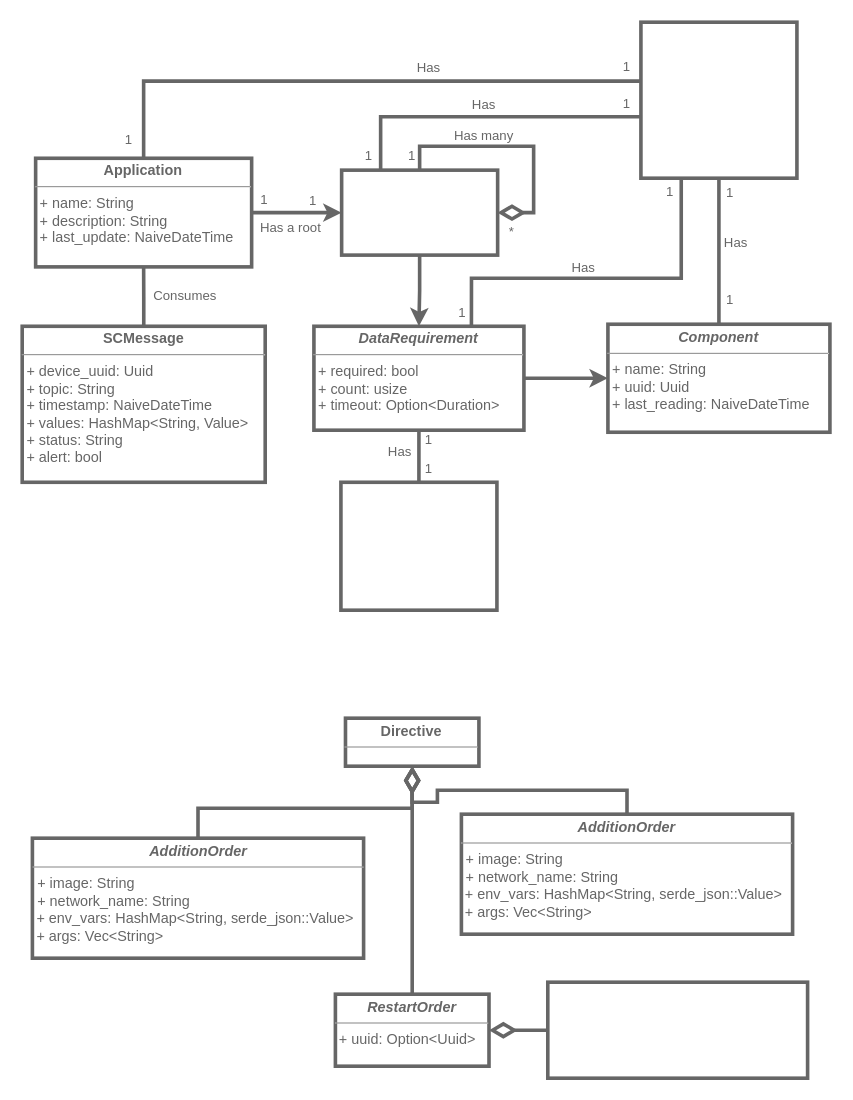
This 853x1100 diagram has some shape labels left out. The box of each missing label's shape, as (x1, y1, x2, y2) in pixels:
<<enumeration>> IoTOutput Number, Boolean, Text, Invalid: (339, 480, 498, 611)
<<enumeration>> QueryType + Http { endpoint: PathBuf, port: u16 } ...: (545, 980, 809, 1079)
<<enumeration>> Status Coherent, Degraded, Critical, Fault, Uninitialized: (639, 20, 798, 179)
Location + name: String + ip: Option<IdAdrr>: (339, 168, 499, 256)
